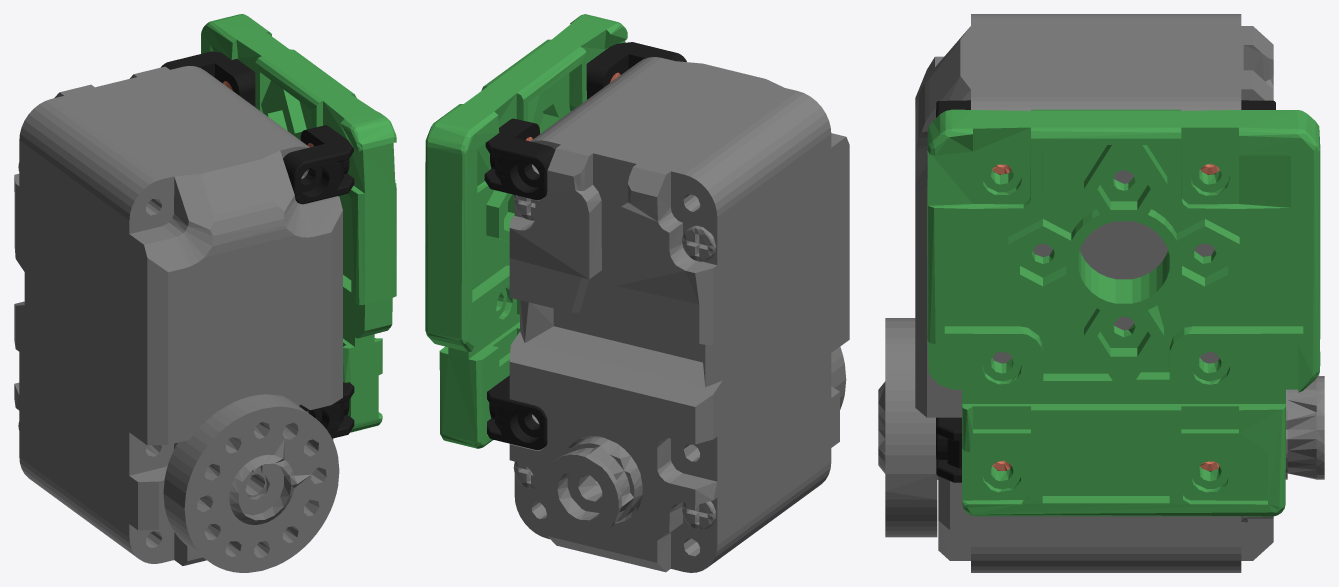
File: bone53.DAE
3 views of the same model, side by side, from view 1: azimuth 30°, elevation 25°; view 2: azimuth 150°, elevation 25°; view 3: azimuth 270°, elevation 25° (orthographic). The views are drawn at different scales.
Parts seen in each view (by area): view 1: through_all_screw_holes, Imported1, screw_holes, C3312100017_L_TYPE_C_1_NUT-1-surface1 (×3); view 2: through_all_screw_holes, Imported1, C3312100017_L_TYPE_C_1_NUT-1-surface1 (×3), O3.0__3__Diameter_Hole1, screw_holes; view 3: Imported1, through_all_screw_holes, screw_holes, O3.0__3__Diameter_Hole1, C3312100017_L_TYPE_C_1_NUT-1-surface1.
Boxes of the visible parts, x1,y1,x2,y2 form: through_all_screw_holes: [14, 66, 342, 565]; Imported1: [201, 14, 396, 432]; screw_holes: [163, 394, 339, 572]; C3312100017_L_TYPE_C_1_NUT-1-surface1 (×3): [161, 51, 354, 438]; through_all_screw_holes: [509, 57, 849, 572]; Imported1: [425, 14, 627, 448]; C3312100017_L_TYPE_C_1_NUT-1-surface1 (×3): [484, 42, 686, 449]; O3.0__3__Diameter_Hole1: [543, 437, 642, 536]; screw_holes: [831, 347, 846, 409]; Imported1: [927, 109, 1320, 516]; through_all_screw_holes: [915, 14, 1273, 572]; screw_holes: [878, 318, 938, 537]; O3.0__3__Diameter_Hole1: [1285, 375, 1324, 479]; C3312100017_L_TYPE_C_1_NUT-1-surface1: [936, 417, 1006, 482].
Bounding box in the file's own units: 30.95 × 38.6 × 46.8.
